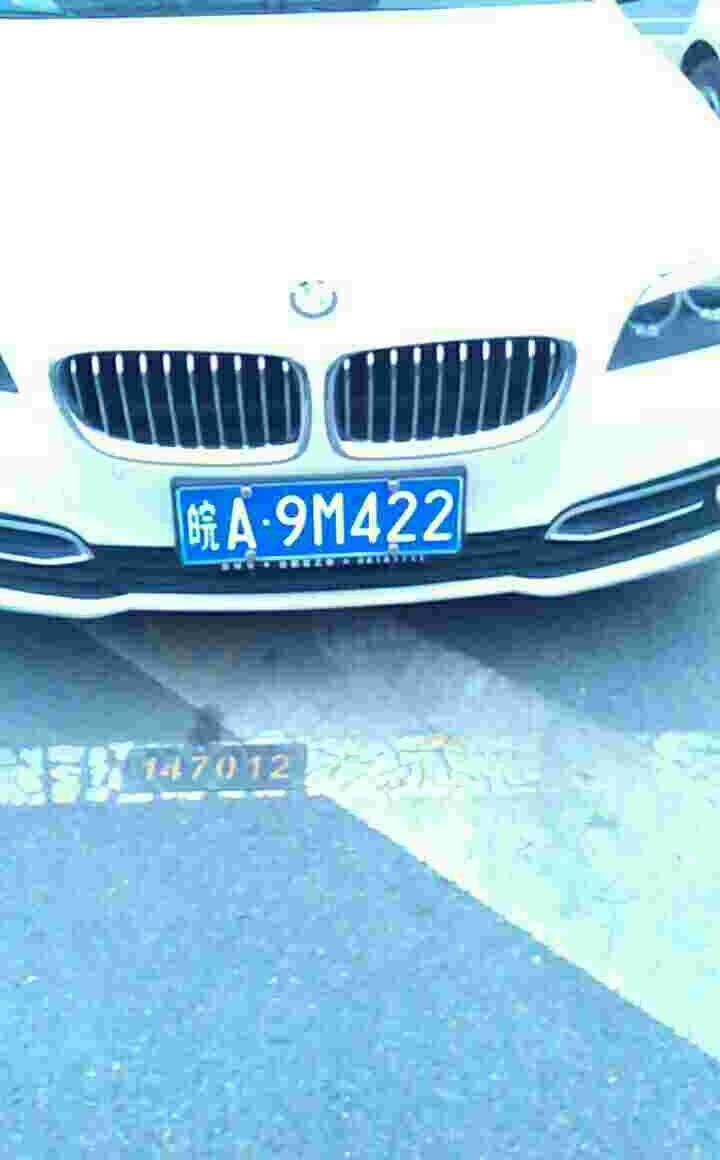plate: (182, 471, 469, 568)
